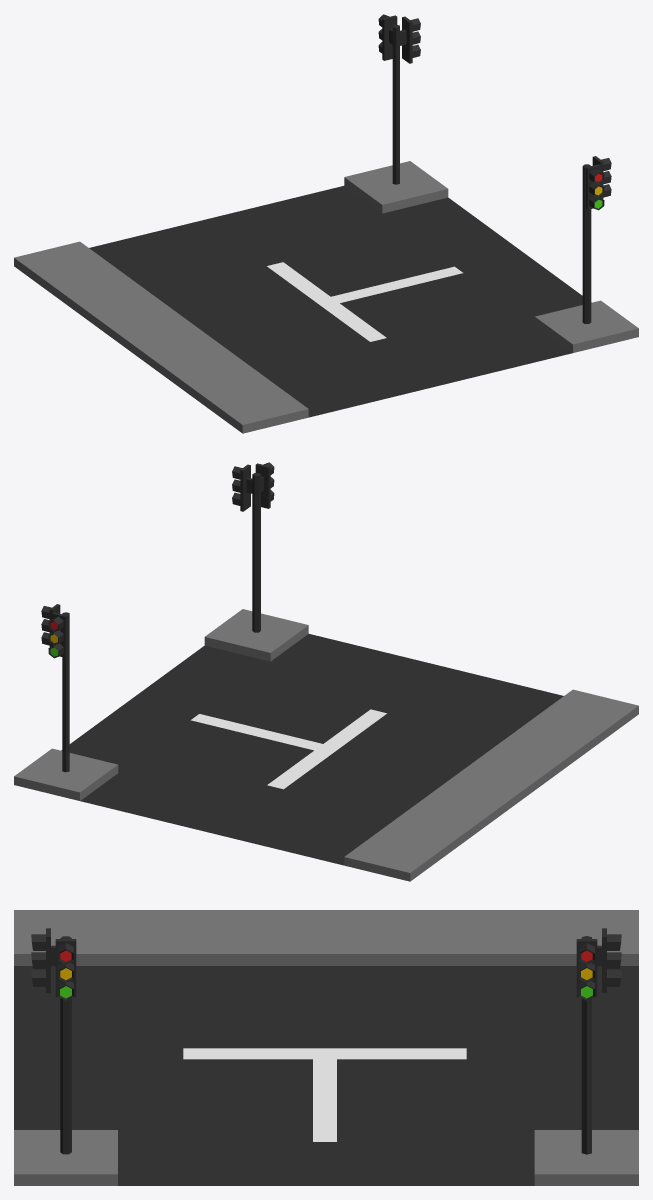
The model's file is RoadTJuncLS.fbx.
3 views of the same model, one above another, from view 1: azimuth 30°, elevation 25°; view 2: azimuth 150°, elevation 25°; view 3: azimuth 270°, elevation 25° (orthographic). The views are drawn at different scales.
Visible parts, largest first — view 1: RoadTJuncLS, TrafficLightPole (×2); view 2: RoadTJuncLS, TrafficLightPole (×2); view 3: RoadTJuncLS, TrafficLightPole (×2), TrafficLightTop1 (×2), TrafficLightTop2 (×2).
Boxes of the visible parts, x1,y1,x2,y2 form: RoadTJuncLS: [14, 161, 638, 433]; TrafficLightPole (×2): [392, 24, 591, 323]; RoadTJuncLS: [14, 609, 638, 881]; TrafficLightPole (×2): [62, 473, 260, 772]; RoadTJuncLS: [14, 910, 638, 1185]; TrafficLightPole (×2): [60, 936, 591, 1154]; TrafficLightTop1 (×2): [55, 928, 606, 997]; TrafficLightTop2 (×2): [46, 928, 597, 997].
Bounding box in the file's own units: 24 × 9.8 × 24.
Materials: 1 (1 with a texture image).
